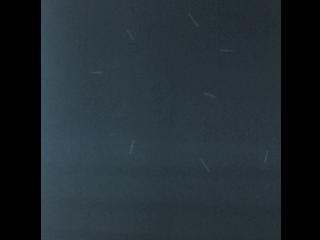scratch: (179, 10, 210, 32), (118, 22, 143, 48), (196, 86, 223, 104), (193, 157, 219, 175), (258, 143, 275, 169), (122, 136, 140, 158), (213, 43, 241, 57), (84, 64, 107, 81)
